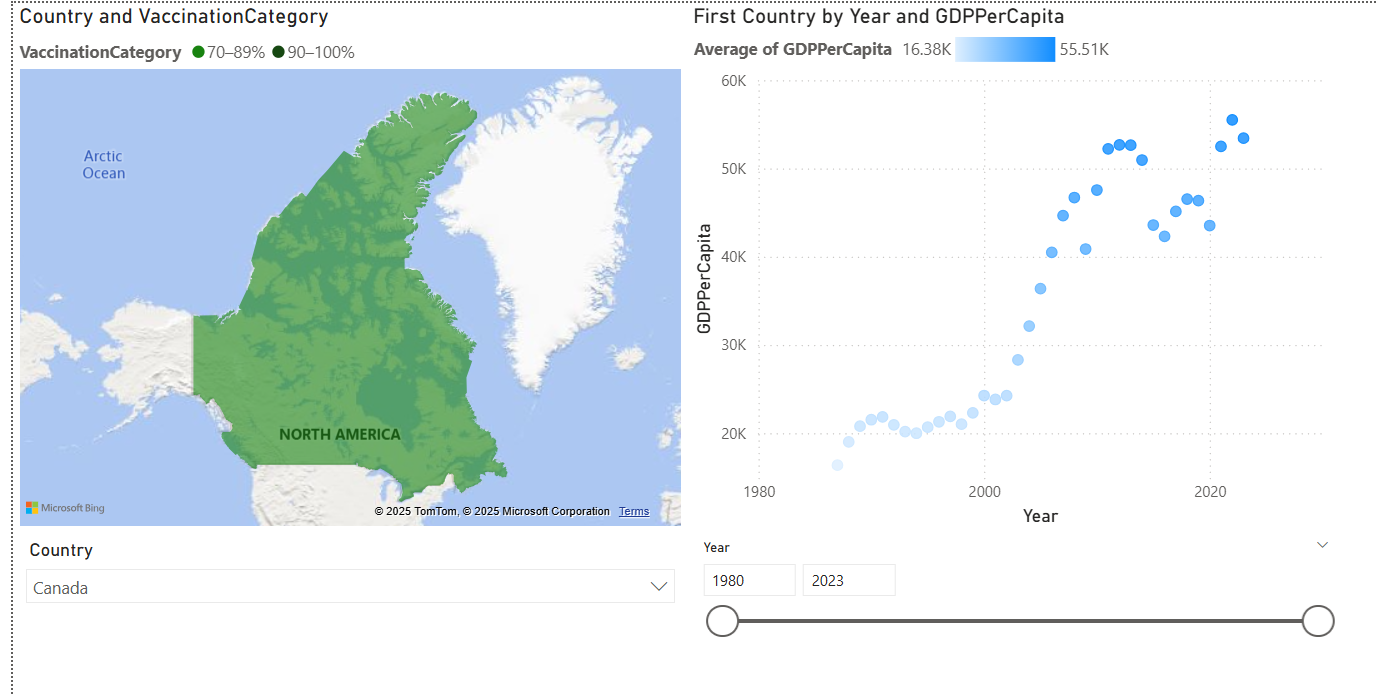

This screenshot's page, from the dashboard's own definition file:
{"tool":"powerbi","page":{"name":"Page 1","canvas":[1280,720],"ordinal":0},"visuals":[{"type":"filledMap","fields":{"Series":["gdp_vac_comb.VaccinationCategory"],"Category":["gdp_vac_comb.Country"]},"box":[0,0,539,424],"z":0},{"type":"scatterChart","fields":{"X":["gdp_vac_comb.Year"],"Y":["gdp_vac_comb.GDPPerCapita"]},"box":[539,0,526,424],"z":1000},{"type":"slicer","fields":{"Values":["gdp_vac_comb.Year"]},"box":[539,424,526,107],"z":2000},{"type":"slicer","fields":{"Values":["gdp_vac_comb.Country"]},"box":[0,424,539,85],"z":3000}]}

Visuals, with their boxes on the page's 1280x720 design canvas (x1, y1, x2, y2). These are canvas units, not pixel positions in the 1376x694 screenshot, which may show the page scaled, cropped or inside an application window:
filledMap - gdp_vac_comb.VaccinationCategory x gdp_vac_comb.Country: [x1=0, y1=0, x2=539, y2=424]
scatterChart - gdp_vac_comb.Year x gdp_vac_comb.GDPPerCapita: [x1=539, y1=0, x2=1065, y2=424]
slicer - gdp_vac_comb.Year: [x1=539, y1=424, x2=1065, y2=531]
slicer - gdp_vac_comb.Country: [x1=0, y1=424, x2=539, y2=509]
